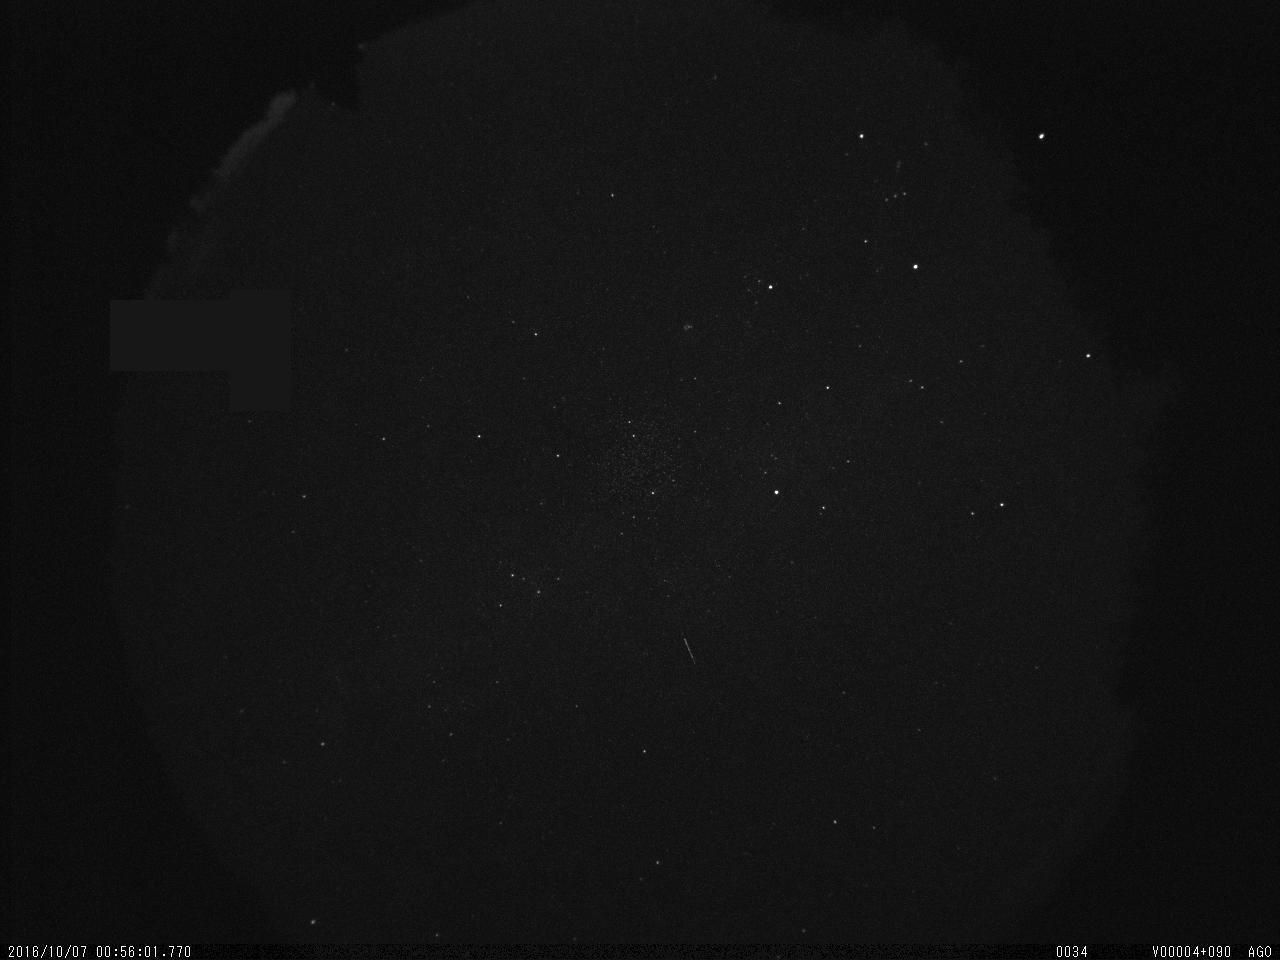Meteor: (674, 629, 702, 677)
